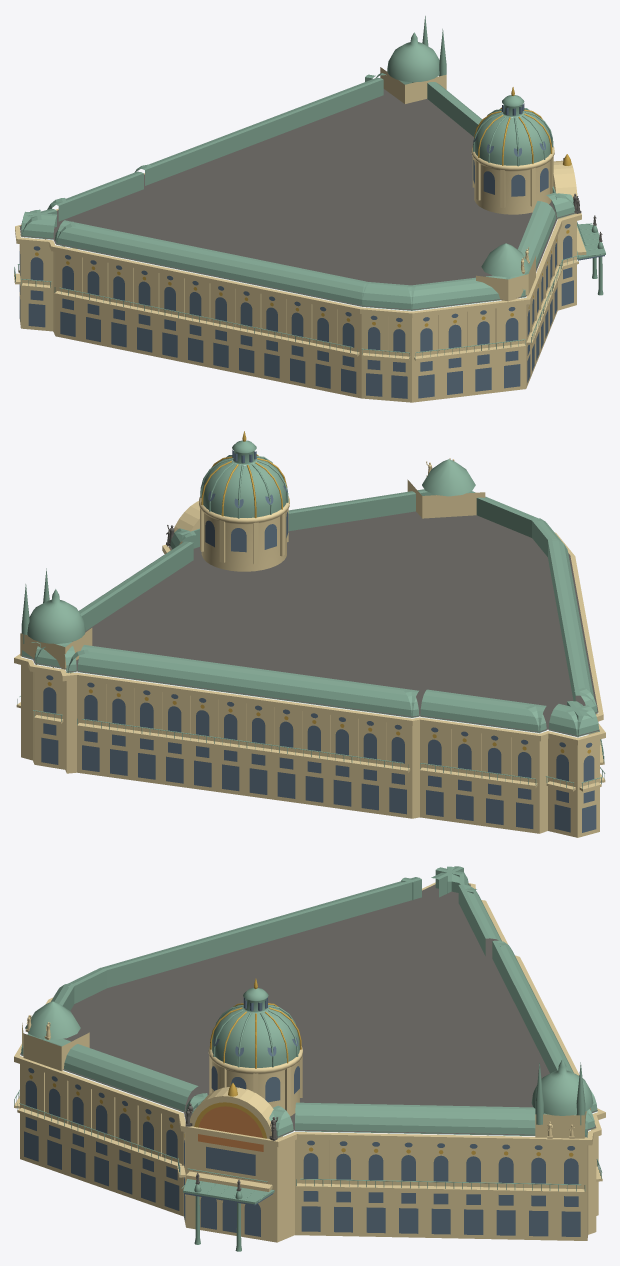
The model's file is prague-municipal-house.detail.glb.
The picture shows the model from 3 angles, top to bottom: view 1: azimuth 30°, elevation 25°; view 2: azimuth 150°, elevation 25°; view 3: azimuth 270°, elevation 25°; orthographic projection. The views are drawn at different scales.
Parts seen in each view (by area): view 1: Municipal House; view 2: Municipal House; view 3: Municipal House.
Part boxes in pixels (<box>): Municipal House: <box>14,16,605,402</box>; Municipal House: <box>14,431,605,837</box>; Municipal House: <box>14,866,605,1251</box>.
Bounding box in the file's own units: 88.07 × 34.7 × 80.52.
